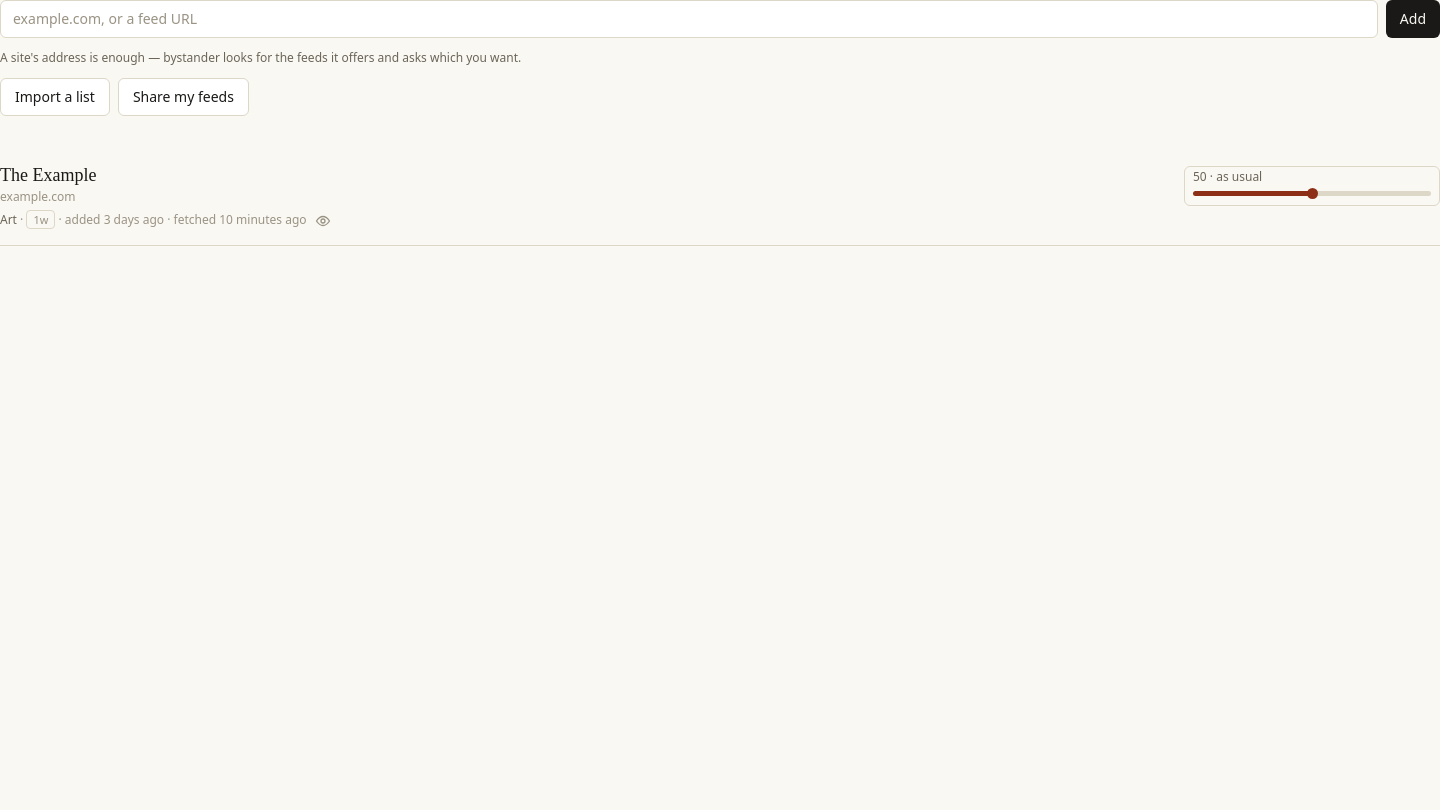
it: FeedsPage › opens everything about a feed from its name
The image size is (1440, 810).
Click the button "The Example" at (48,175), box [0, 164, 1168, 186]
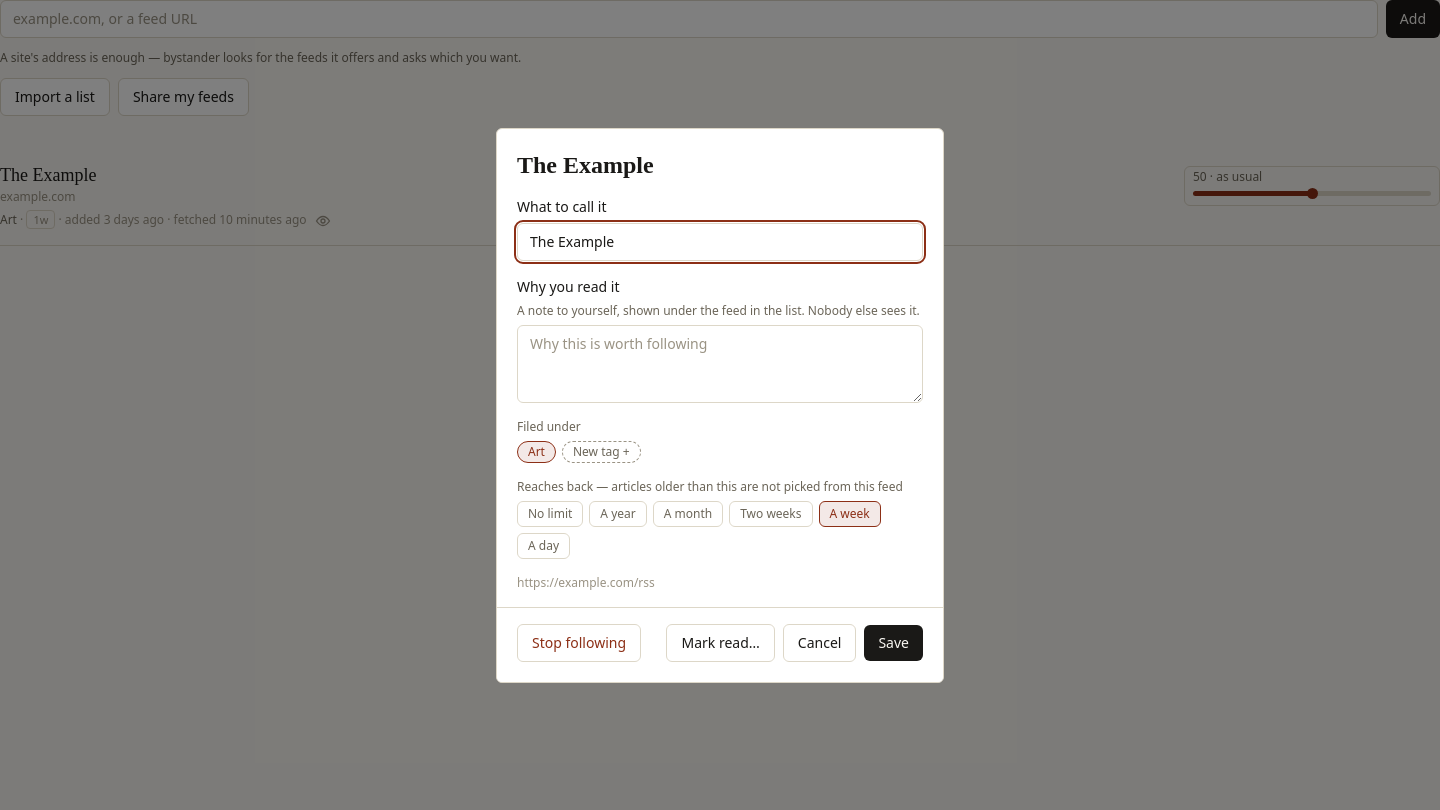
Check: the field labelled "What to call it" holds "The Example", box [517, 222, 923, 260]
Check: the button "Art" is shown, box [517, 440, 556, 462]
Check: the button "A week" is shown, box [818, 500, 881, 526]
